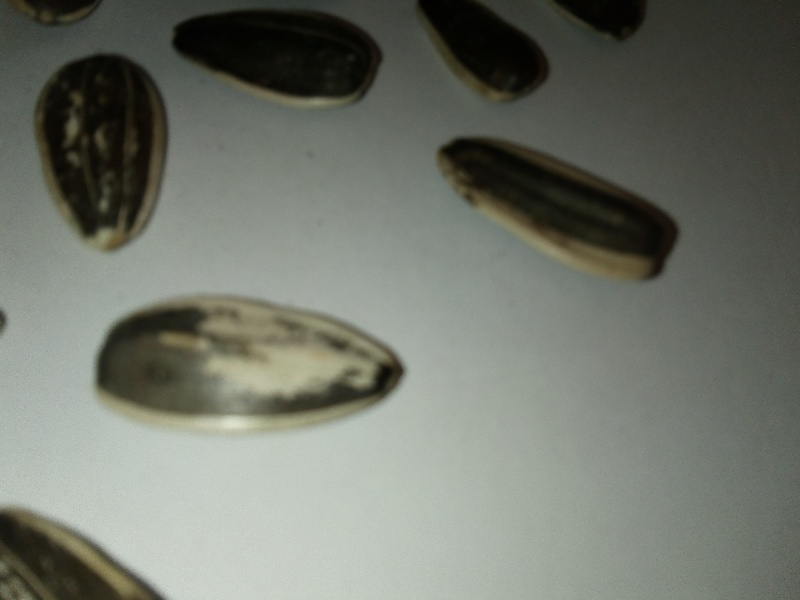w: (82, 283, 416, 448), (419, 127, 691, 292), (18, 46, 170, 265)
